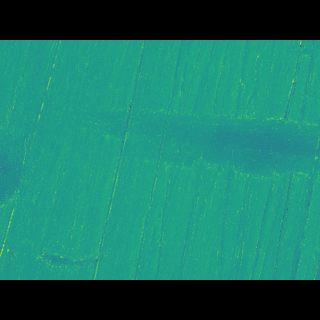Loch: (72, 117, 320, 179)
